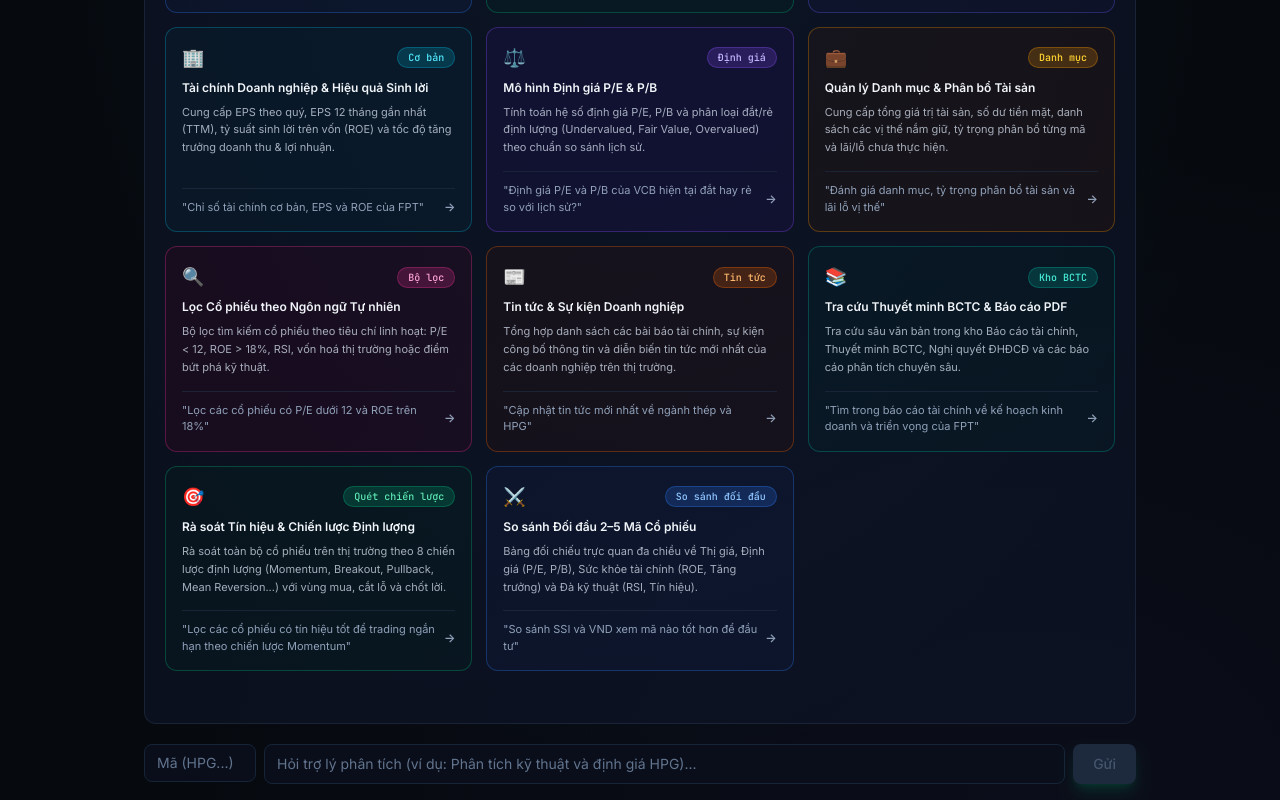
Test: AskAnalyst Component (User Story 1: P1) › renders bound reached disclosure notice when toolCallBoundReached is true
(page scrolled)
Replace the text in the field with placeholder "Hỏi trợ lý phân tích" with "Phân tích tổng hợp" at x=665, y=764, box [264, 744, 1065, 784]
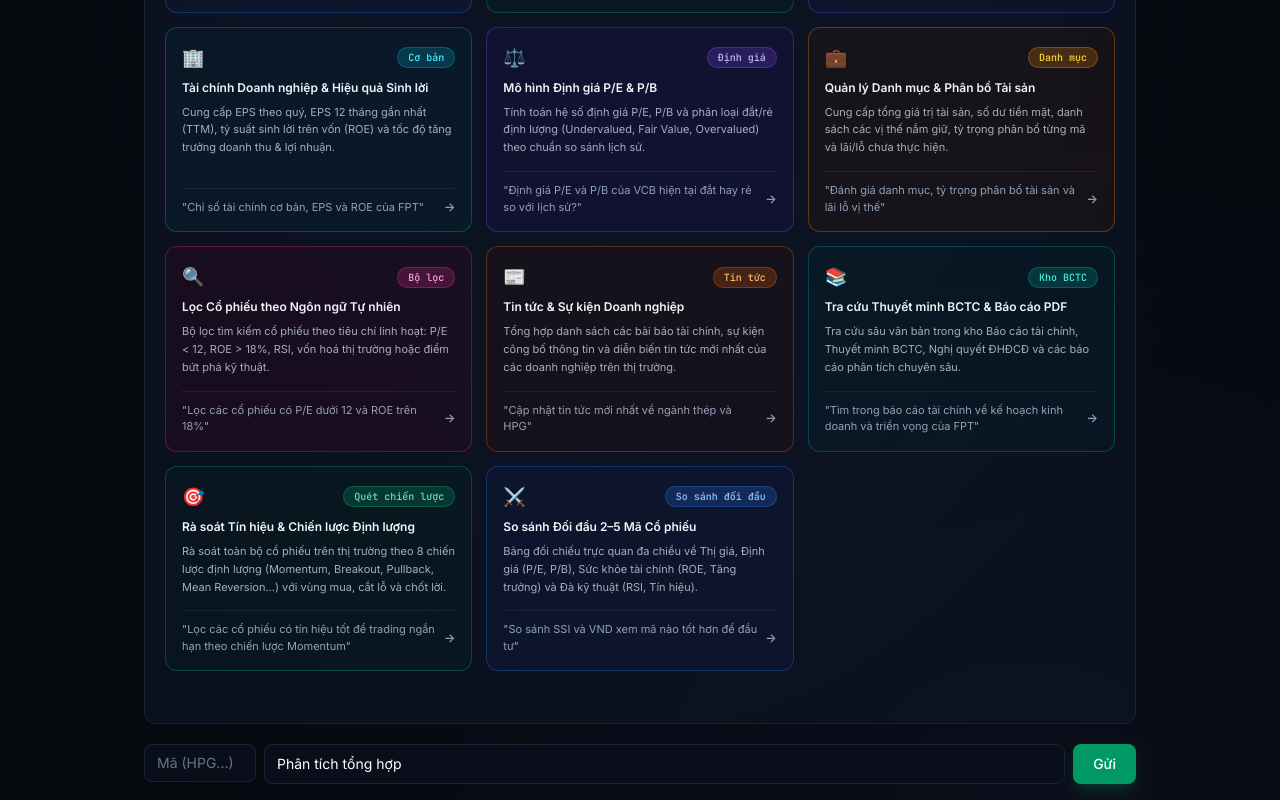
Click the button "Gửi" at x=1105, y=764, box [1073, 744, 1136, 784]
(page scrolled)
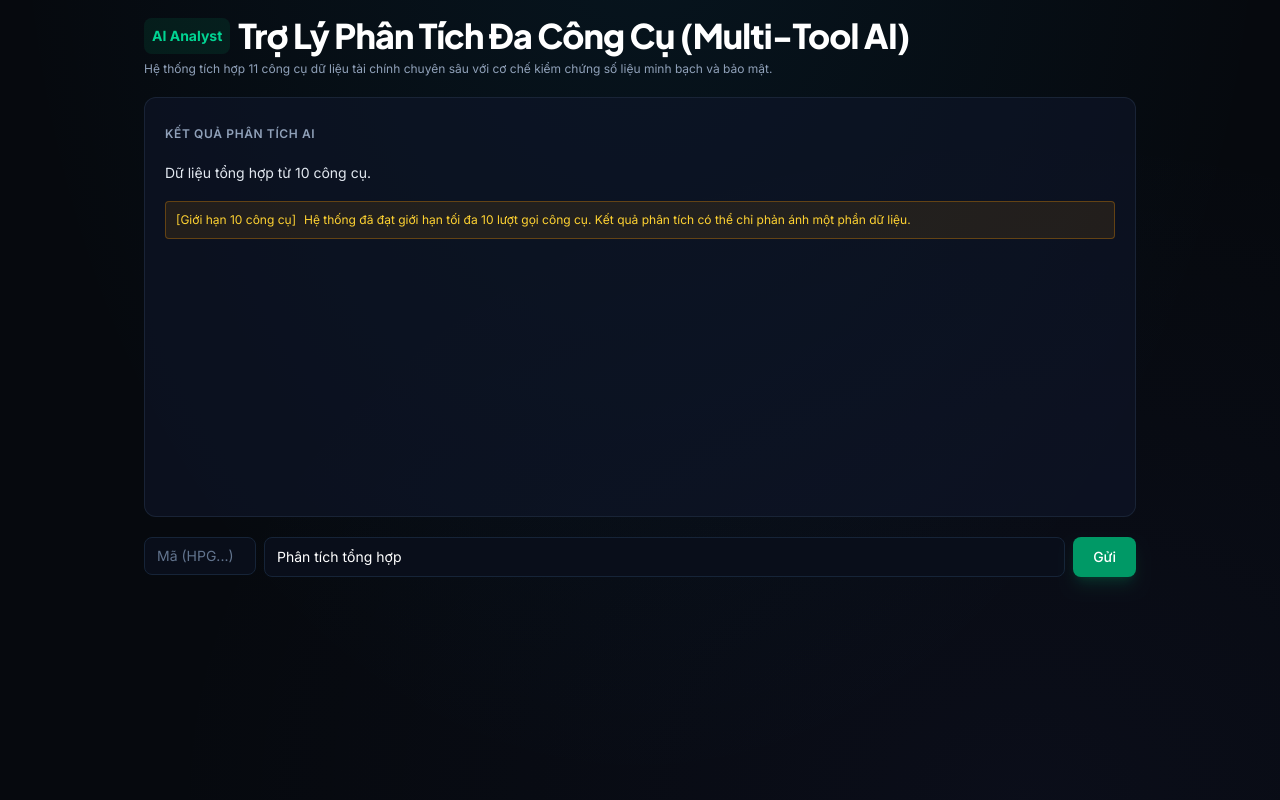
expect the text "[Giới hạn 10 công cụ]" is shown: met, box [176, 212, 296, 228]
